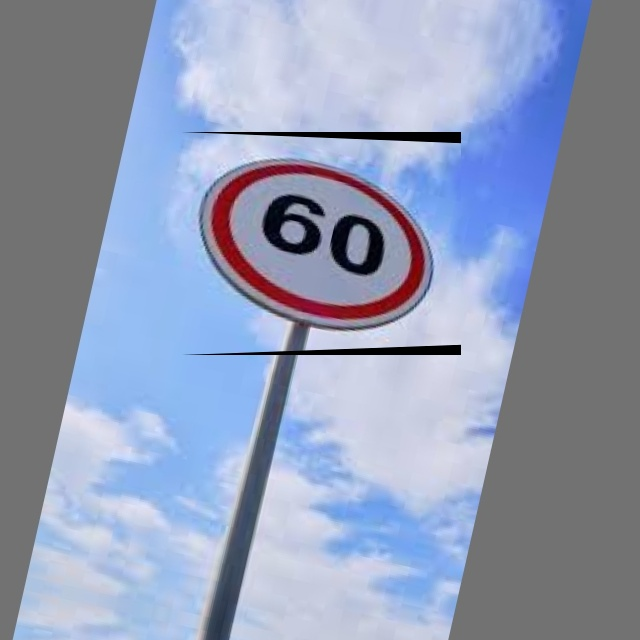Speed_Limit_60: (181, 132, 461, 355)
